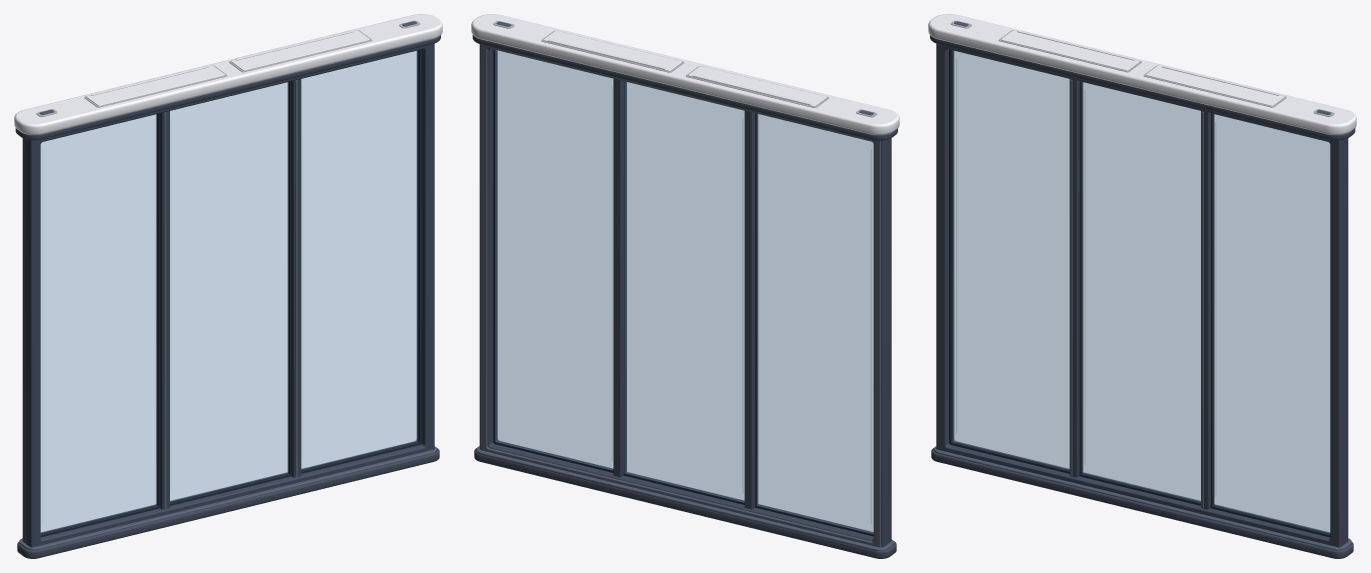
Rendered from 06-nodeworks-glass-wall-right.glb.
The picture shows the model from 3 angles, left to right: view 1: azimuth 30°, elevation 25°; view 2: azimuth 150°, elevation 25°; view 3: azimuth 330°, elevation 25°; orthographic projection.
Visible parts, largest first — view 1: center_transparent_glass, right_transparent_glass, left_transparent_glass, outer_graphite_frame, top_white_cap, right_mullion, left_mullion, bottom_graphite_rail, inner_glazing_seal, top_cap_dark_gasket, bottom_rear_edge_trim, right_white_service_hatch (+7 smaller); view 2: center_transparent_glass, right_transparent_glass, left_transparent_glass, outer_graphite_frame, rear_perimeter_edge, top_white_cap, left_mullion, right_mullion, bottom_graphite_rail, inner_glazing_seal, top_cap_dark_gasket, bottom_rear_edge_trim (+4 smaller); view 3: center_transparent_glass, left_transparent_glass, right_transparent_glass, outer_graphite_frame, top_white_cap, left_mullion, bottom_graphite_rail, right_mullion, inner_glazing_seal, top_cap_dark_gasket, bottom_rear_edge_trim, left_white_service_hatch (+6 smaller).
Boxes of the visible parts, x1,y1,x2,y2 form: center_transparent_glass: (170, 82, 288, 501); right_transparent_glass: (301, 51, 417, 468); left_transparent_glass: (40, 114, 155, 532); outer_graphite_frame: (22, 43, 434, 547); top_white_cap: (14, 14, 442, 134); right_mullion: (287, 79, 301, 477); left_mullion: (156, 111, 169, 509); bottom_graphite_rail: (17, 447, 439, 558); inner_glazing_seal: (40, 49, 421, 537); top_cap_dark_gasket: (15, 35, 440, 140); bottom_rear_edge_trim: (19, 446, 436, 550); right_white_service_hatch: (231, 30, 369, 70); center_transparent_glass: (624, 81, 744, 502); right_transparent_glass: (495, 50, 612, 469); left_transparent_glass: (757, 114, 873, 533); outer_graphite_frame: (479, 44, 891, 547); rear_perimeter_edge: (480, 44, 881, 547); top_white_cap: (471, 14, 899, 134); left_mullion: (744, 111, 758, 509); right_mullion: (613, 78, 626, 477); bottom_graphite_rail: (474, 447, 896, 558); inner_glazing_seal: (493, 49, 873, 536); top_cap_dark_gasket: (472, 35, 897, 140); bottom_rear_edge_trim: (476, 446, 893, 550); center_transparent_glass: (1082, 82, 1200, 501); left_transparent_glass: (953, 51, 1069, 468); right_transparent_glass: (1215, 114, 1330, 532); outer_graphite_frame: (936, 43, 1348, 547); top_white_cap: (928, 14, 1356, 134); left_mullion: (1069, 79, 1083, 477); bottom_graphite_rail: (931, 447, 1353, 558); right_mullion: (1201, 111, 1214, 509); inner_glazing_seal: (949, 49, 1330, 537); top_cap_dark_gasket: (930, 35, 1355, 140); bottom_rear_edge_trim: (934, 446, 1351, 550); left_white_service_hatch: (1001, 30, 1139, 70).
Bounding box in the file's own units: 2.5 × 2.48 × 0.215.
